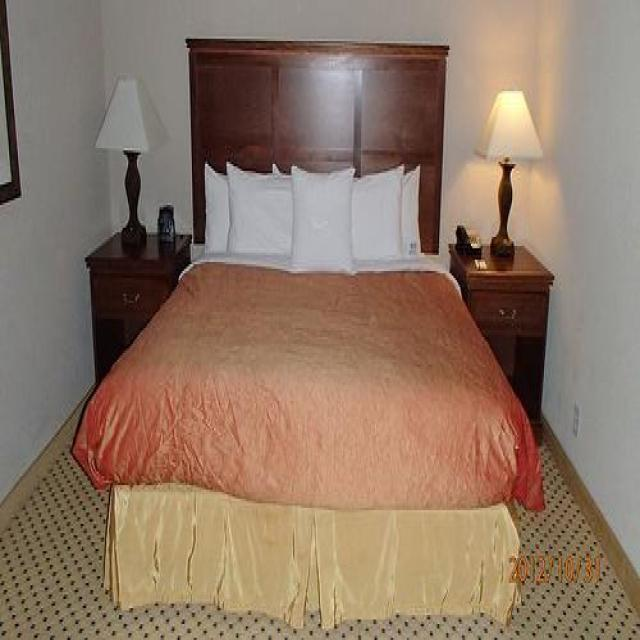bed: (93, 31, 540, 626)
